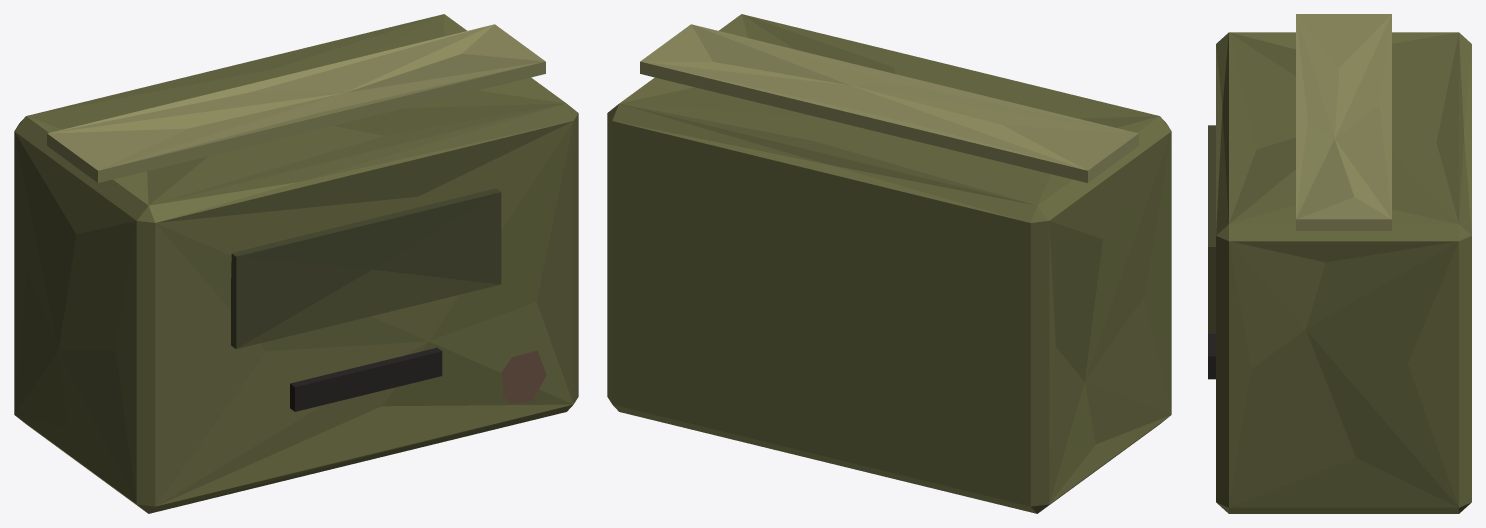
Rendered from ration_dry_armeyskiy_idle.glb.
The picture shows the model from 3 angles, left to right: view 1: azimuth 30°, elevation 25°; view 2: azimuth 150°, elevation 25°; view 3: azimuth 270°, elevation 25°; orthographic projection. The views are drawn at different scales.
Visible parts, largest first — view 1: ration_dry_armeyskiy_idle; view 2: ration_dry_armeyskiy_idle; view 3: ration_dry_armeyskiy_idle.
Part boxes in pixels (box(x1,y1,x2,y2)): ration_dry_armeyskiy_idle: box(14, 14, 578, 513); ration_dry_armeyskiy_idle: box(607, 14, 1171, 513); ration_dry_armeyskiy_idle: box(1208, 14, 1471, 513).
Size of the model in its own units: 0.152 by 0.104 by 0.085.
1 material, 1 textured.
